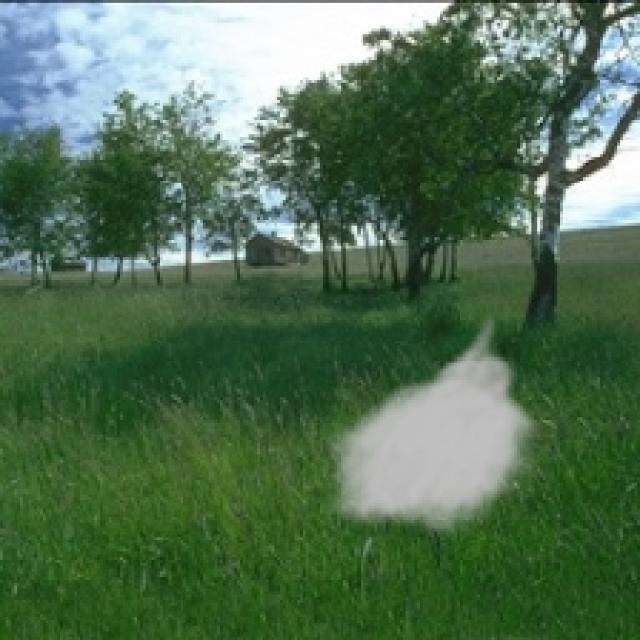smoke: (317, 309, 543, 537)
